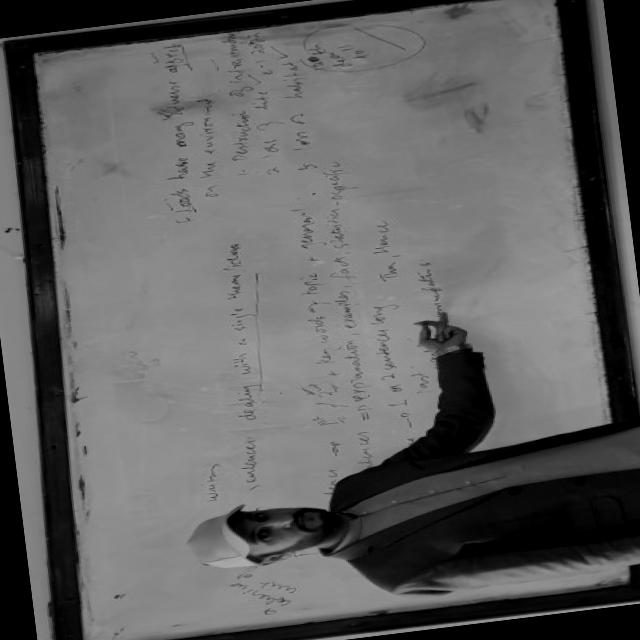Instructor: (169, 417, 640, 603)
White-board: (19, 0, 640, 640)
